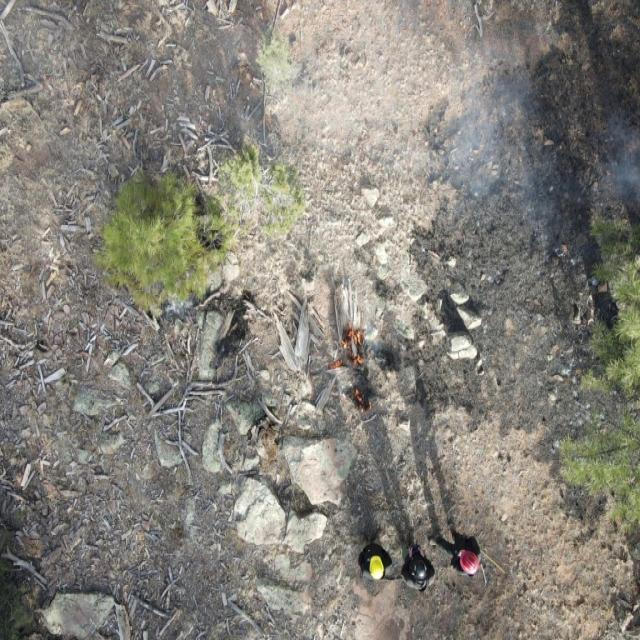fire: (330, 327, 366, 372), (352, 387, 372, 414)
smoke: (1, 1, 292, 234), (294, 40, 640, 229), (290, 276, 398, 412)
